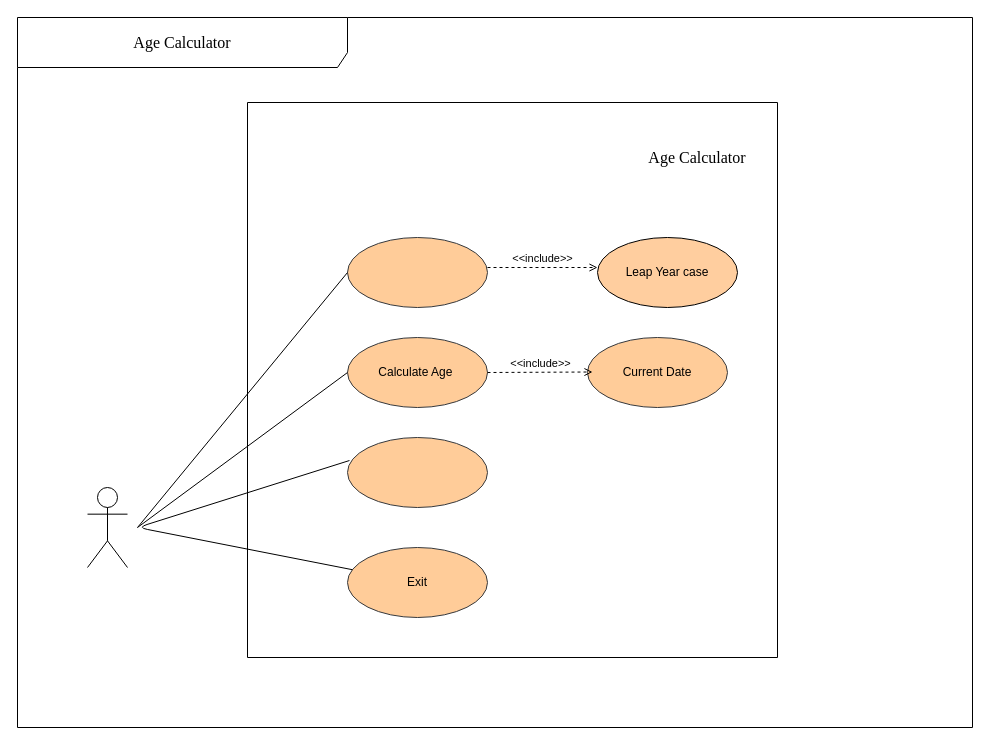
Some shapes in this 990 by 745 pixel diagram are drawn without their labels. The shapes that lost their labels are listed below. From the top down, each one's centre as x and y in pixels, then its label:
[417,272]: Enter DOB
[417,472]: Generate particular life period based on calculated age
[107,527]: User
